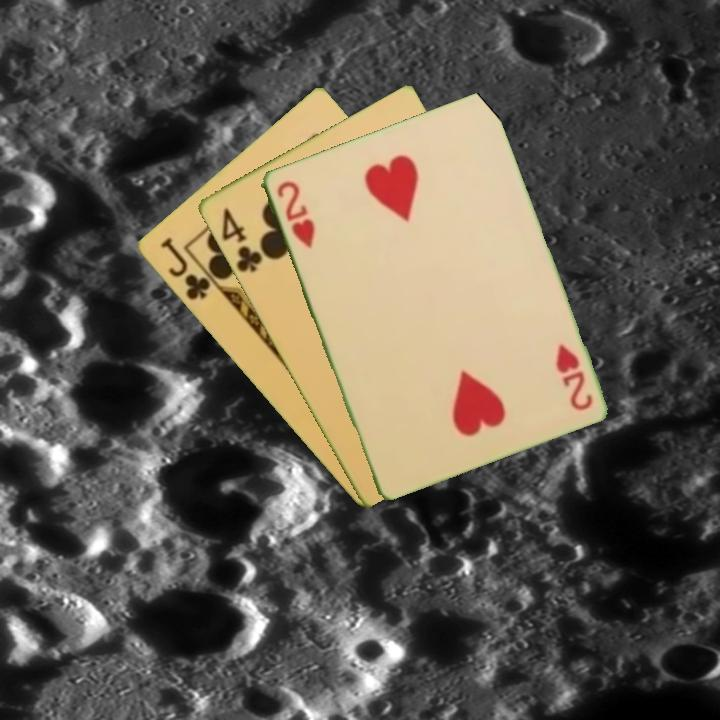2h: (272, 177, 318, 252), (551, 340, 595, 413)
4c: (217, 204, 265, 276)
Jc: (155, 234, 213, 304)
